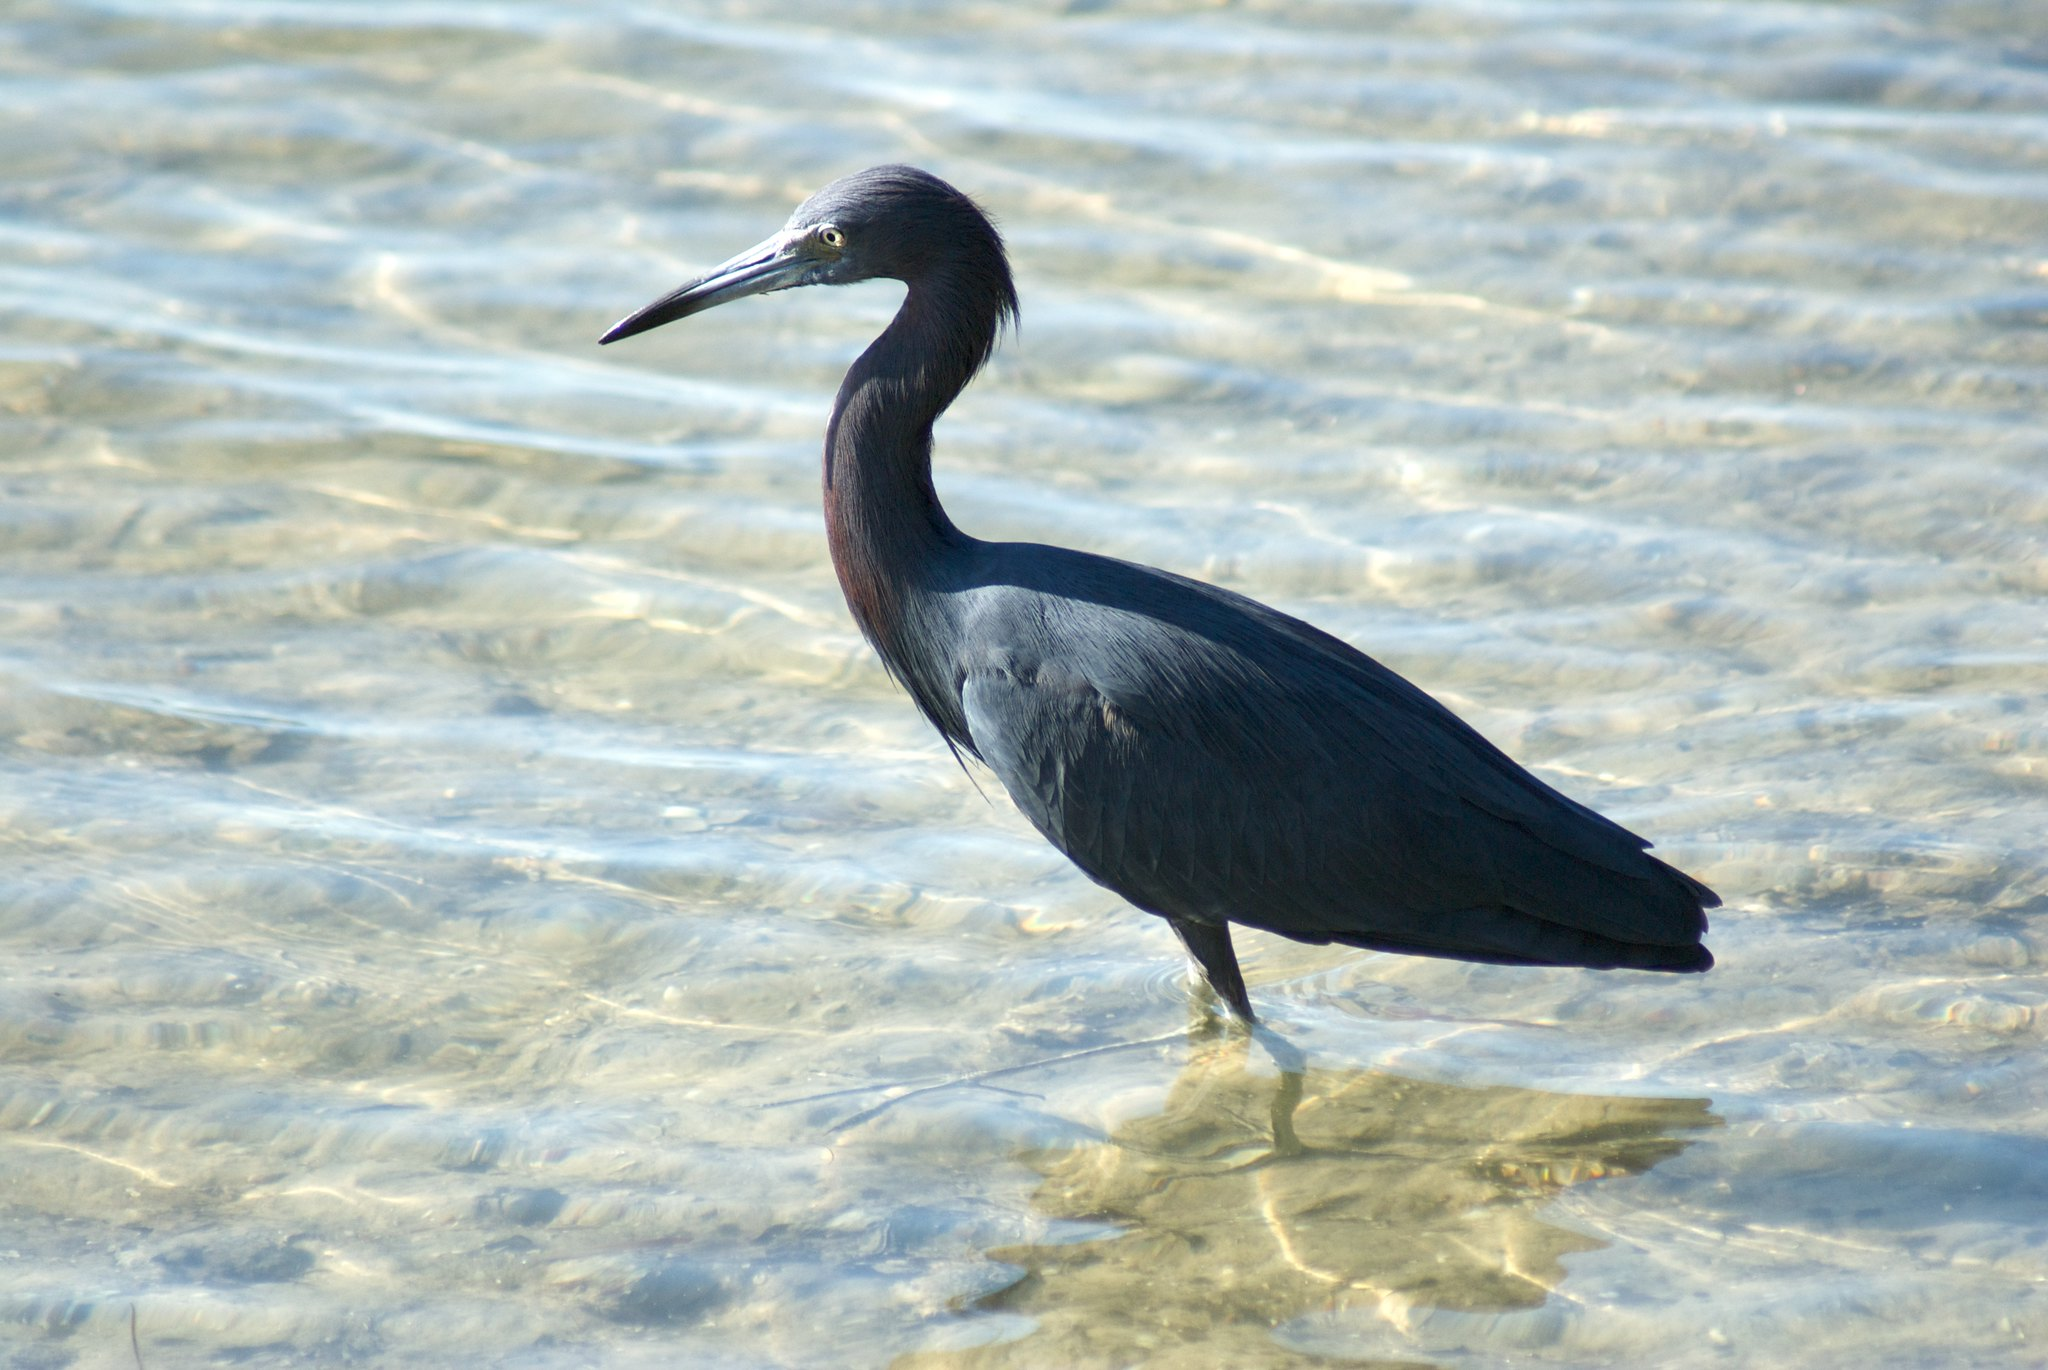bird: (598, 165, 1719, 1026)
